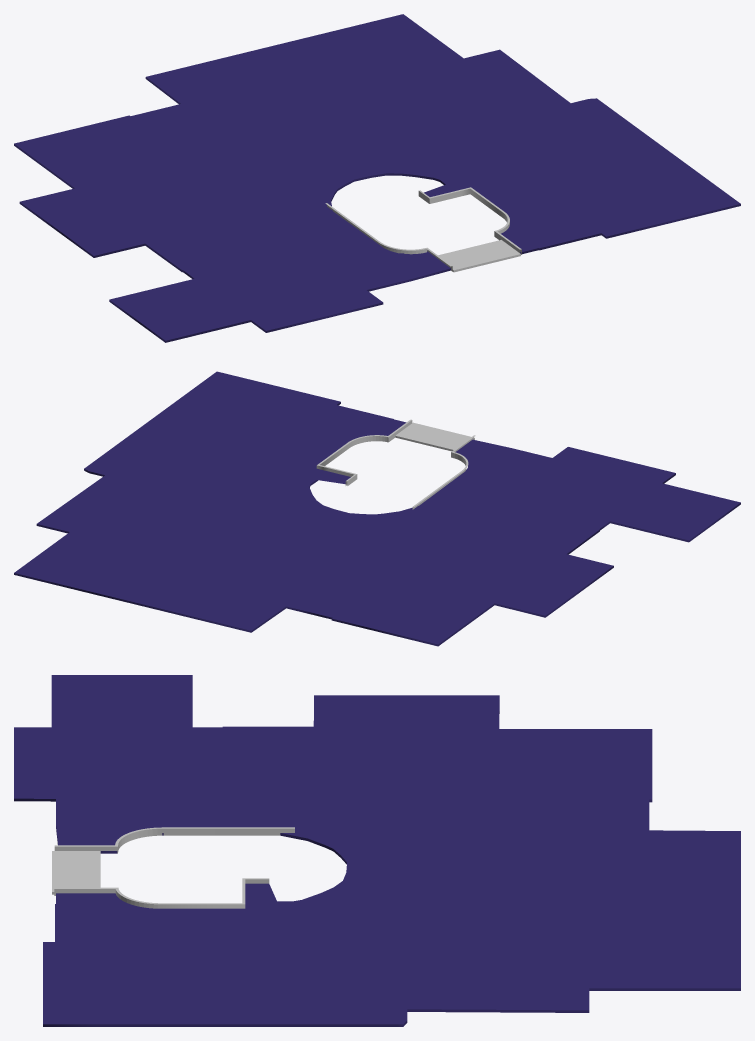
Rendered from piso demo.fbx.
3 views of the same model, one above another, from view 1: azimuth 30°, elevation 25°; view 2: azimuth 150°, elevation 25°; view 3: azimuth 270°, elevation 25° (orthographic). The views are drawn at different scales.
Visible parts, largest first — view 1: pisodos.001, pisodos.008; view 2: pisodos.001, pisodos.008; view 3: pisodos.001, pisodos.008.
Part boxes in pixels (x1,y1,x2,y2): pisodos.001: (14, 14, 740, 342); pisodos.008: (325, 187, 521, 272); pisodos.001: (14, 371, 740, 646); pisodos.008: (316, 419, 475, 509); pisodos.001: (14, 675, 740, 1026); pisodos.008: (52, 827, 294, 908).
Bounding box in the file's own units: 8510 × 80.25 × 7486.
